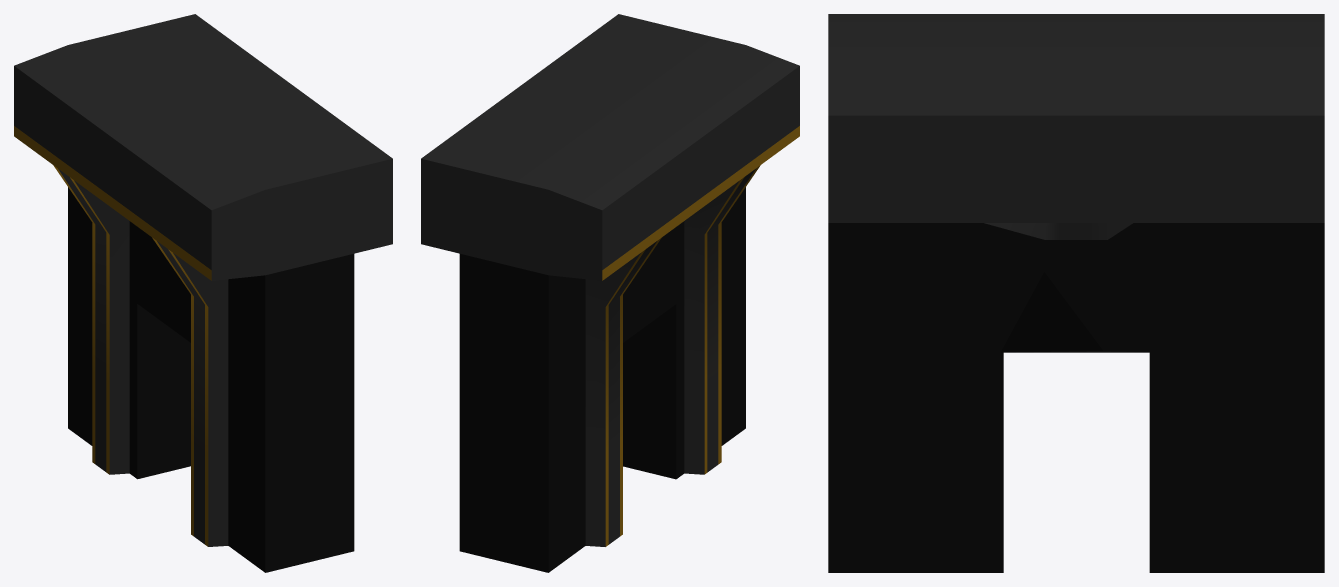
The model's file is Factory_CorridorExit.fbx.
3 views of the same model, side by side, from view 1: azimuth 30°, elevation 25°; view 2: azimuth 150°, elevation 25°; view 3: azimuth 270°, elevation 25° (orthographic). The views are drawn at different scales.
Parts seen in each view (by area): view 1: Factory_CorridorNarrow_2.001; view 2: Factory_CorridorNarrow_2.001; view 3: Factory_CorridorNarrow_2.001.
Part boxes in pixels (x1,y1,x2,y2): Factory_CorridorNarrow_2.001: (14, 14, 392, 572); Factory_CorridorNarrow_2.001: (421, 14, 799, 572); Factory_CorridorNarrow_2.001: (828, 14, 1324, 572).
Bounding box in the file's own units: 212 × 428 × 400.
